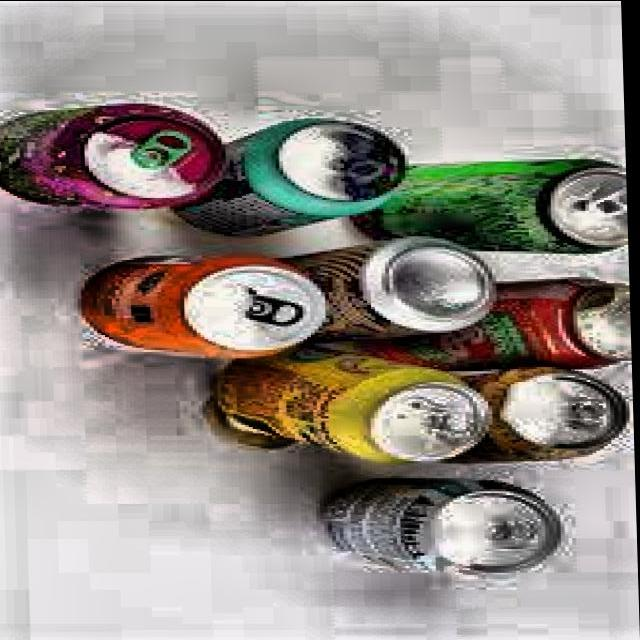Aluminum Can: (209, 342, 498, 466), (170, 110, 424, 240), (70, 248, 336, 361), (310, 472, 578, 580), (0, 94, 239, 213), (344, 156, 631, 255), (274, 229, 508, 347), (358, 277, 634, 375), (424, 366, 634, 464)
